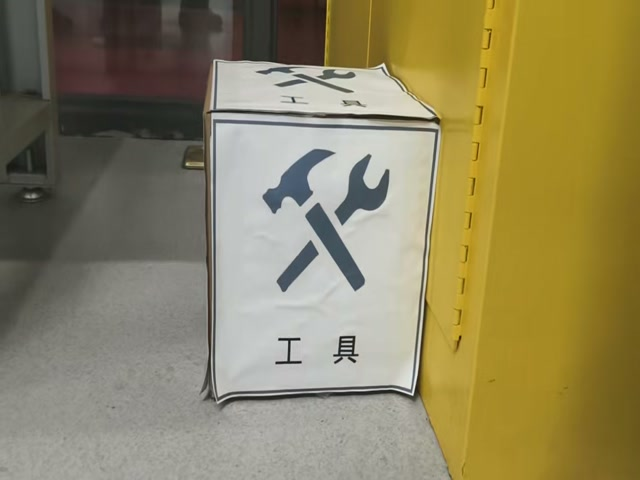Cube_tool: (210, 56, 439, 138)
